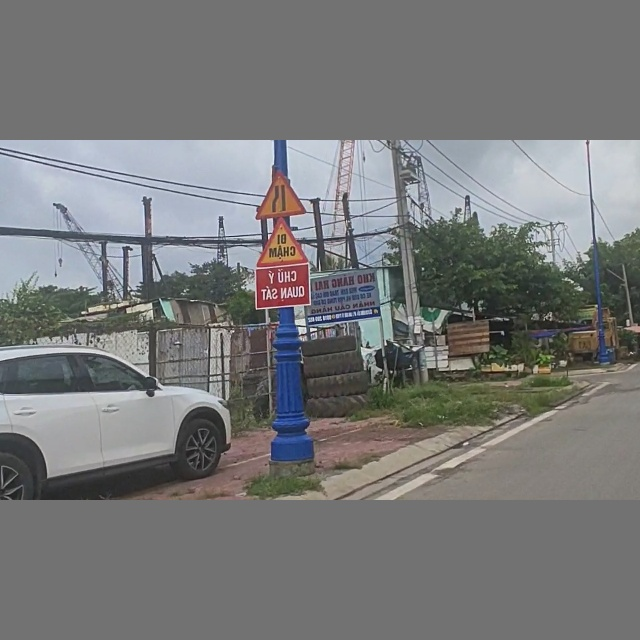W.203c: (254, 169, 306, 219)
W.245a: (255, 218, 307, 267)
